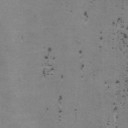oxide scale of temperature system: (44, 47, 52, 60), (120, 32, 128, 44), (115, 80, 120, 95), (58, 95, 62, 113), (42, 68, 46, 78), (117, 17, 123, 23), (112, 106, 118, 112), (84, 11, 89, 18), (80, 64, 84, 70)
